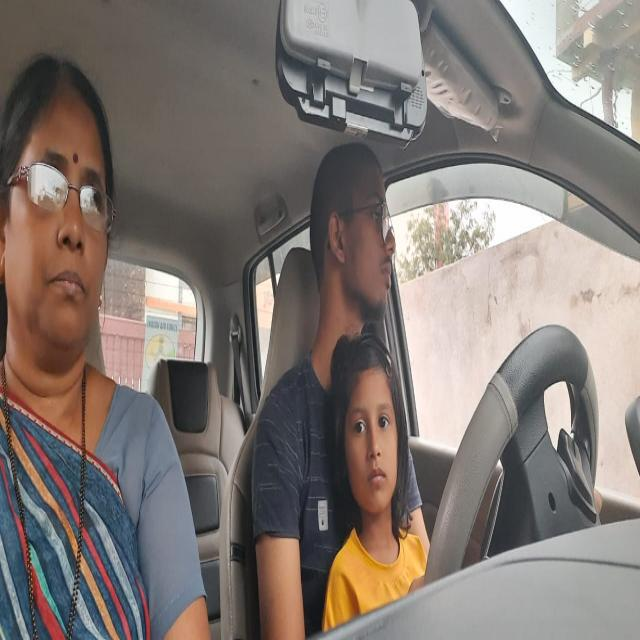child: (332, 328, 406, 528)
person: (3, 52, 113, 394), (311, 138, 396, 321)
